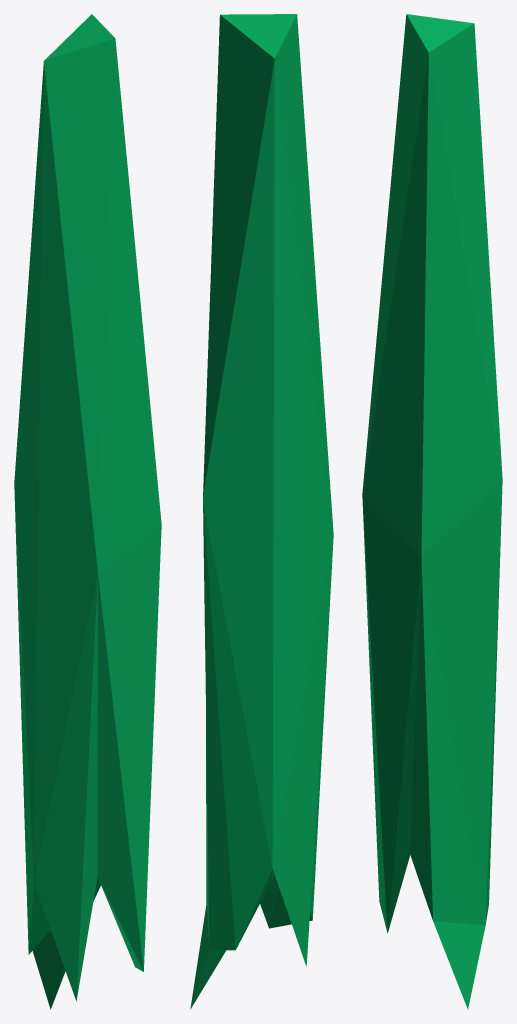
Rendered from SeguaroCactusMedium1_LOD2.fbx.
The picture shows the model from 3 angles, left to right: view 1: azimuth 90°, elevation 25°; view 2: azimuth 150°, elevation 25°; view 3: azimuth 270°, elevation 25°; orthographic projection. The views are drawn at different scales.
Parts seen in each view (by area): view 1: SeguaroCactusMedium1_LOD2; view 2: SeguaroCactusMedium1_LOD2; view 3: SeguaroCactusMedium1_LOD2.
Part boxes in pixels (x1,y1,x2,y2): SeguaroCactusMedium1_LOD2: (14, 14, 161, 1009); SeguaroCactusMedium1_LOD2: (190, 14, 333, 1009); SeguaroCactusMedium1_LOD2: (362, 14, 502, 1009).
Size of the model in its own units: 30.75 by 232 by 31.66.
